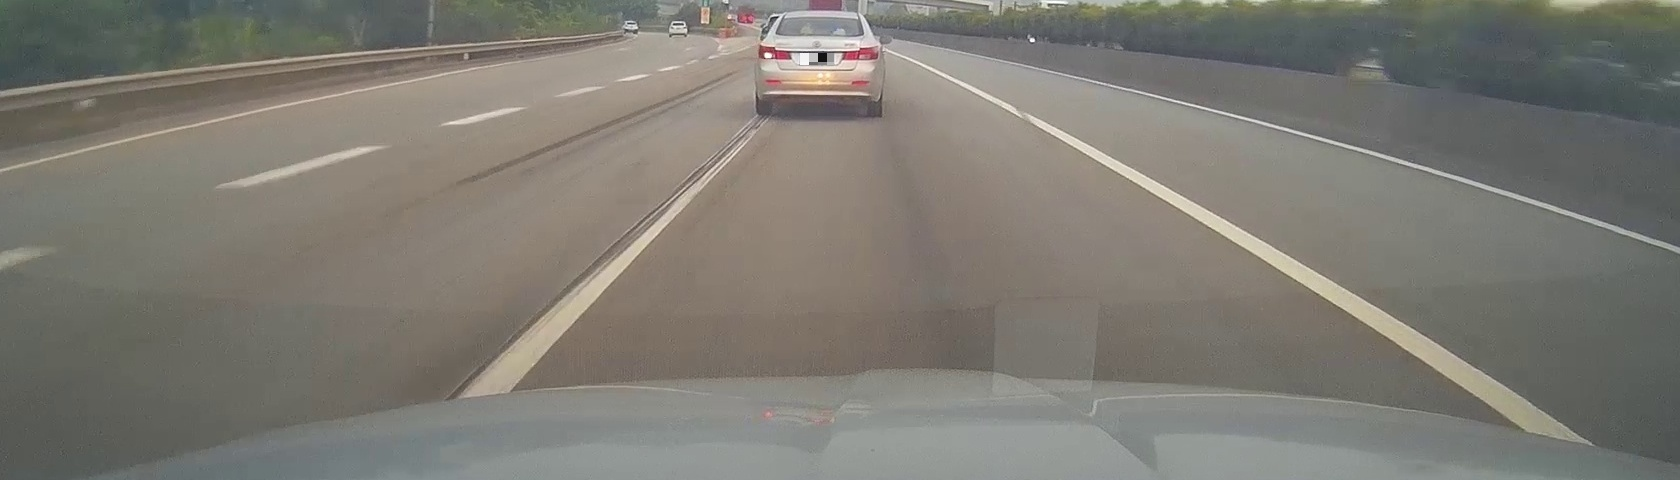L_light: (757, 45, 791, 60)
R_light: (841, 45, 879, 60)
T_light: (810, 30, 828, 35)
day-left: (755, 10, 881, 116)
plate_1: (800, 52, 834, 65)
